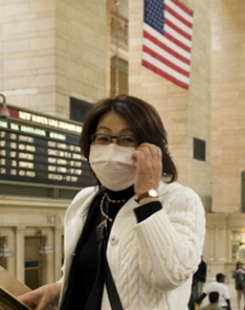mask: (88, 143, 138, 192)
